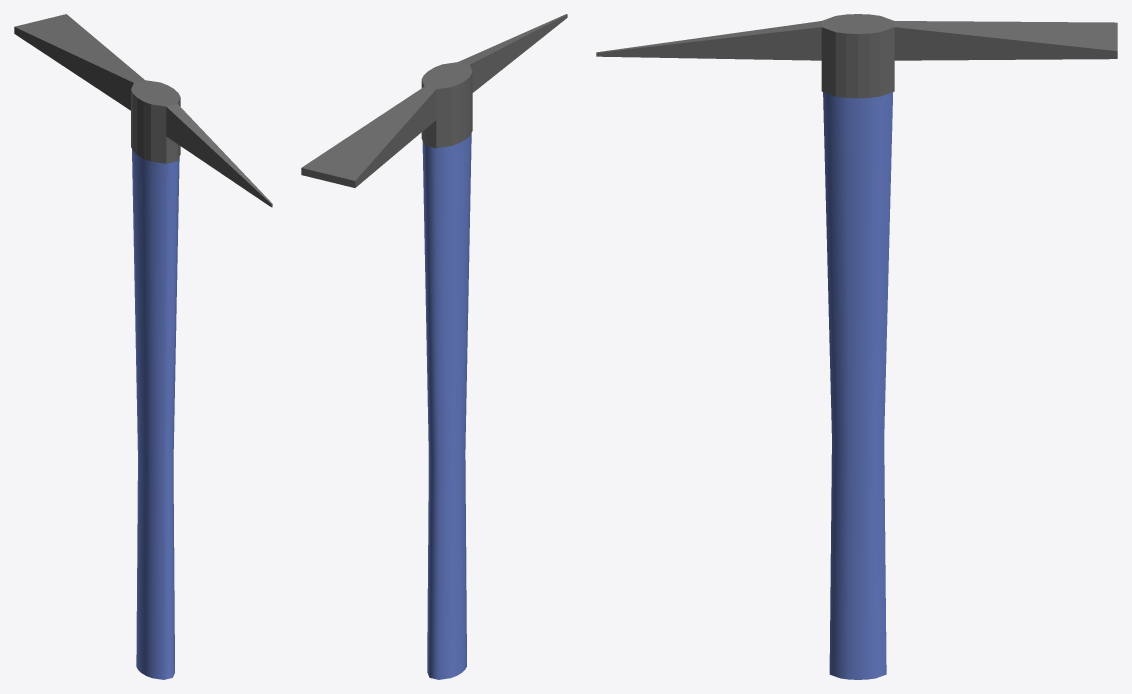
The model's file is pickaxe.fbx.
3 renders of one model, left to right at view 1: azimuth 30°, elevation 25°; view 2: azimuth 150°, elevation 25°; view 3: azimuth 270°, elevation 25°, orthographic. The views are drawn at different scales.
Visible parts, largest first — view 1: pickaxe; view 2: pickaxe; view 3: pickaxe.
Part boxes in pixels (x1=…): pickaxe: x1=14, y1=14, x2=272, y2=679; pickaxe: x1=301, y1=14, x2=567, y2=679; pickaxe: x1=596, y1=14, x2=1117, y2=679.
Bounding box in the file's own units: 0.1291 × 1.36 × 0.9909.
